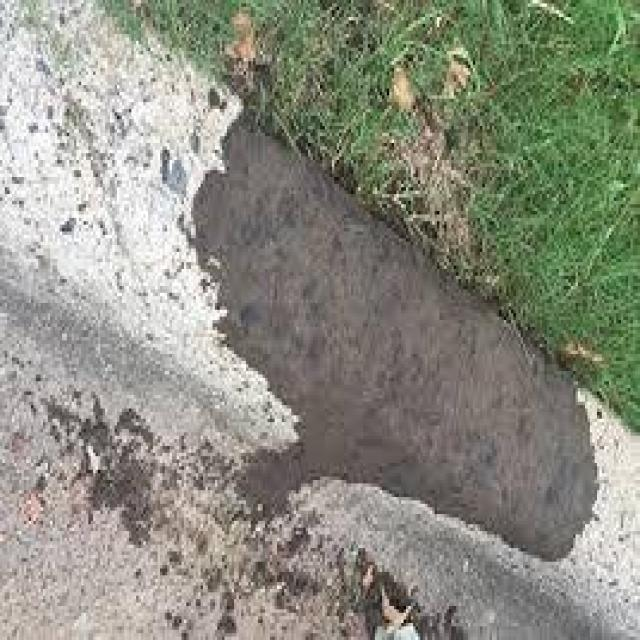curb: (6, 10, 631, 631)
